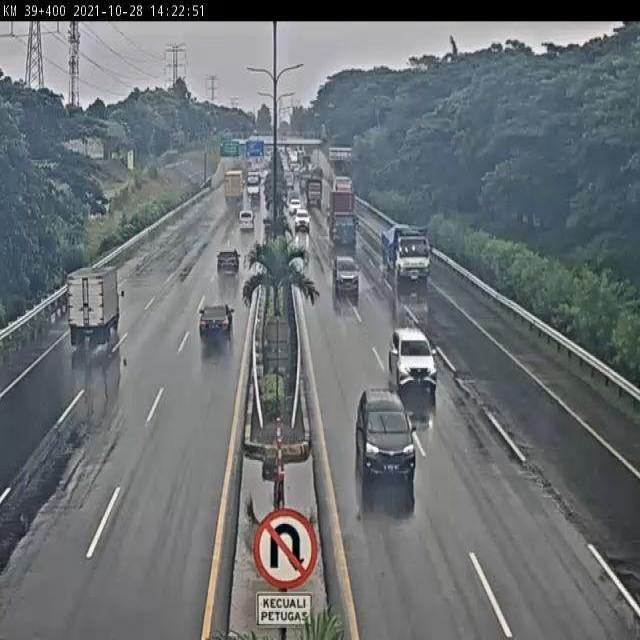car: (357, 388, 415, 479), (390, 325, 440, 392)
truck-l-: (379, 226, 431, 282)
truck-m-: (67, 269, 119, 347)
truck-xl-: (329, 192, 361, 252)
